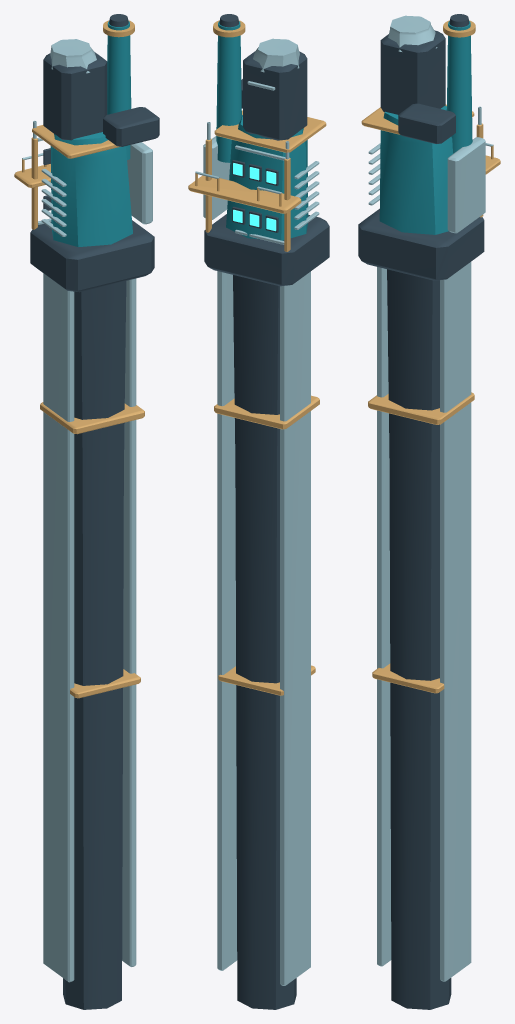
Rendered from DistantFoundryWorks.glb.
The picture shows the model from 3 angles, left to right: view 1: azimuth 30°, elevation 25°; view 2: azimuth 150°, elevation 25°; view 3: azimuth 330°, elevation 25°; orthographic projection.
Visible parts, largest first — view 1: architecture; view 2: architecture; view 3: architecture.
Boxes of the visible parts, box(x1,y1,x2,y2) form: architecture: box(14, 14, 159, 1009); architecture: box(188, 14, 329, 1009); architecture: box(358, 14, 500, 1009).
Bounding box in the file's own units: 8.2 × 77.11 × 8.01.
